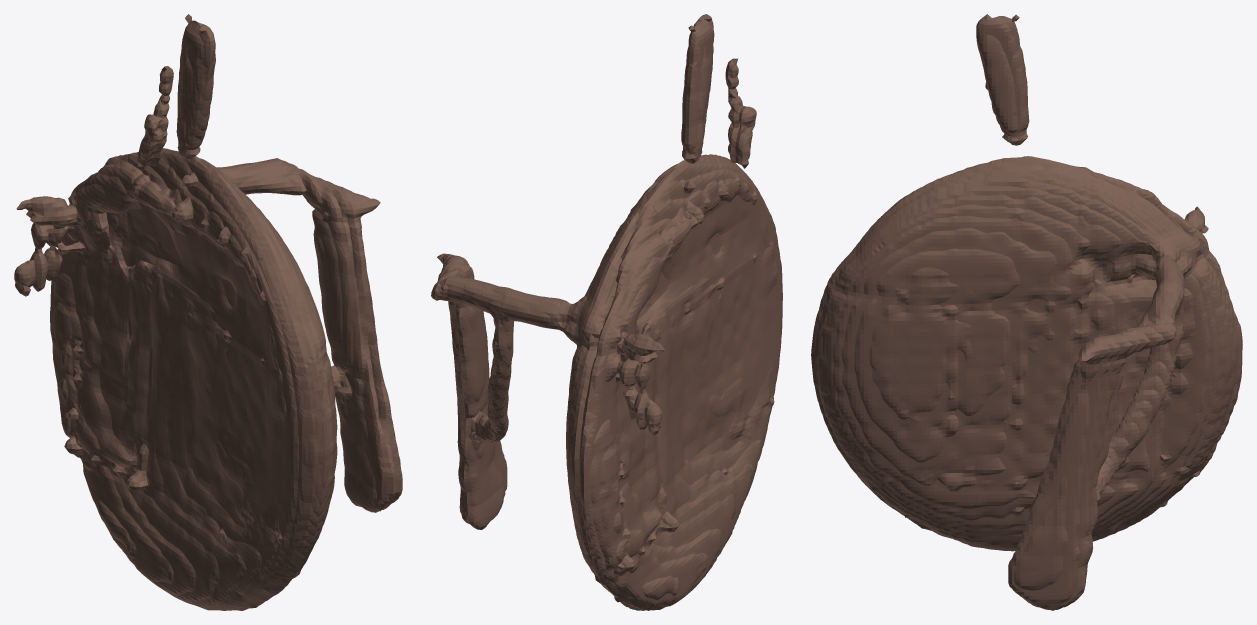
Rendered from raw.glb.
3 renders of one model, left to right at view 1: azimuth 30°, elevation 25°; view 2: azimuth 150°, elevation 25°; view 3: azimuth 270°, elevation 25°, orthographic. The views are drawn at different scales.
Parts seen in each view (by area): view 1: world; view 2: world; view 3: world.
Part boxes in pixels (box(x1,y1,x2,y2)): world: box(14, 14, 402, 610); world: box(431, 14, 782, 610); world: box(811, 14, 1242, 610).
Bounding box in the file's own units: 1.1 × 2.06 × 1.51.
